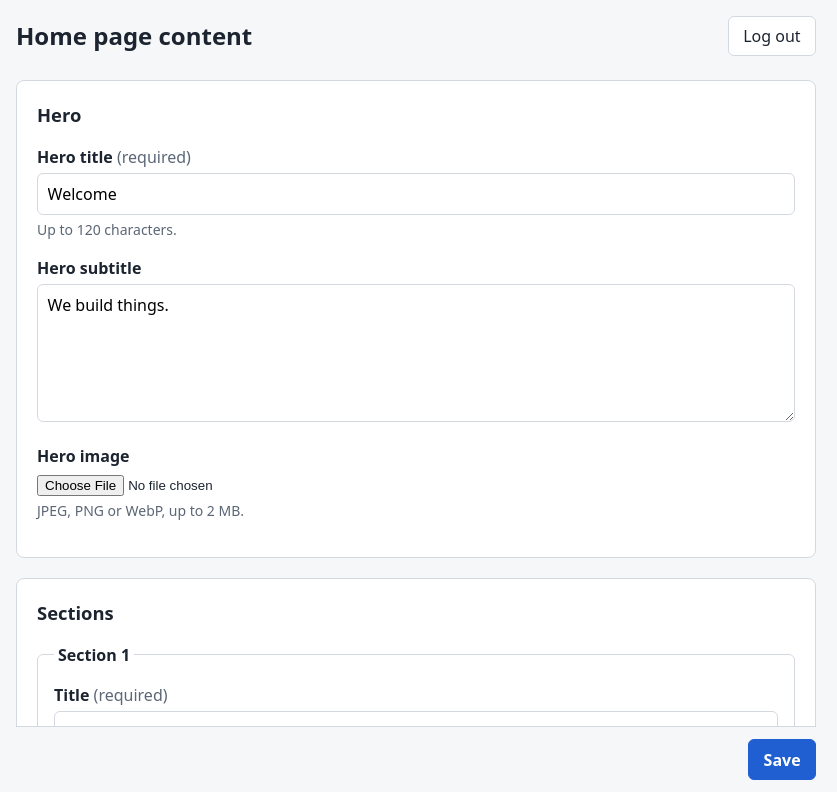
Test: Validation › empty hero title → "Hero title is required." and nothing is sent
Clear the field labelled "Hero title (required)" at (416, 194), box 37,173 -> 795,215
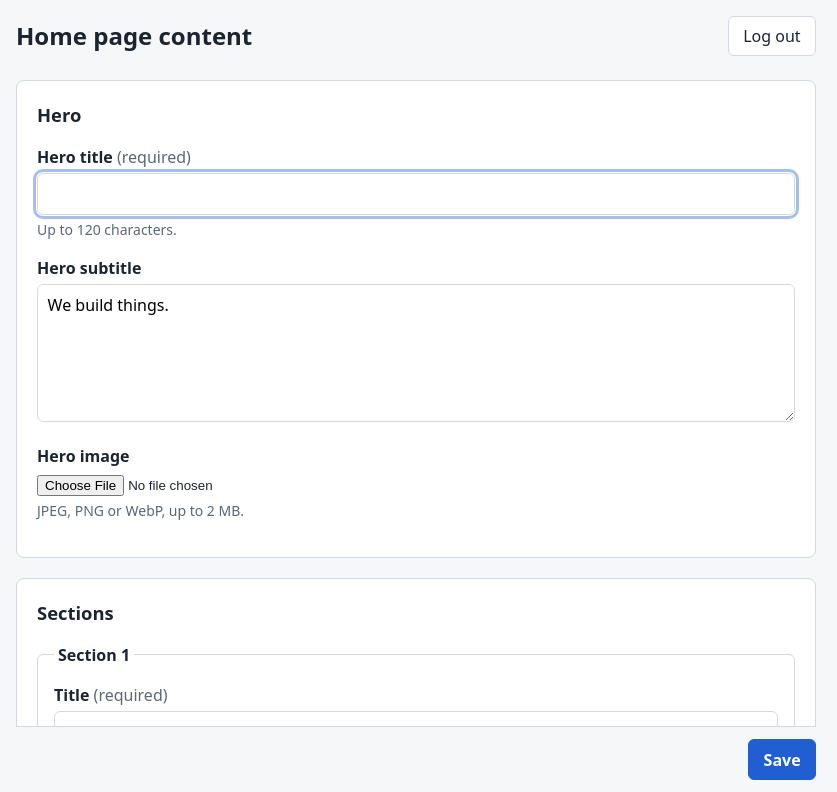
Click the button "Save" at (782, 760), box 748,740 -> 816,780
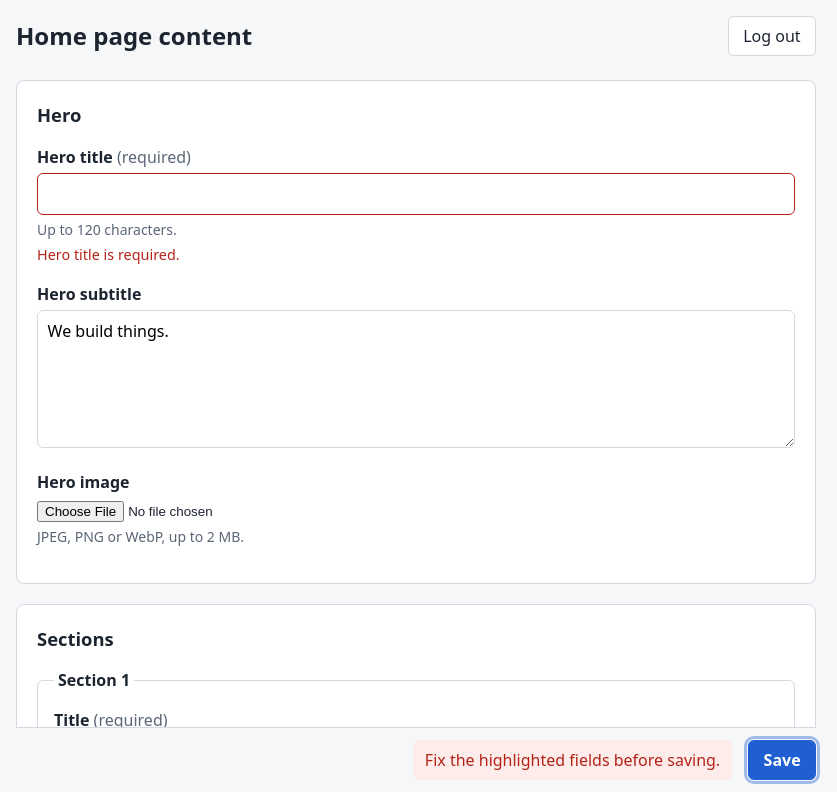
Expected: the text "Hero title is required." is shown, 37,245 -> 180,264
Expected: the message reads "Fix the highlighted fields before saving.", 425,749 -> 720,771
